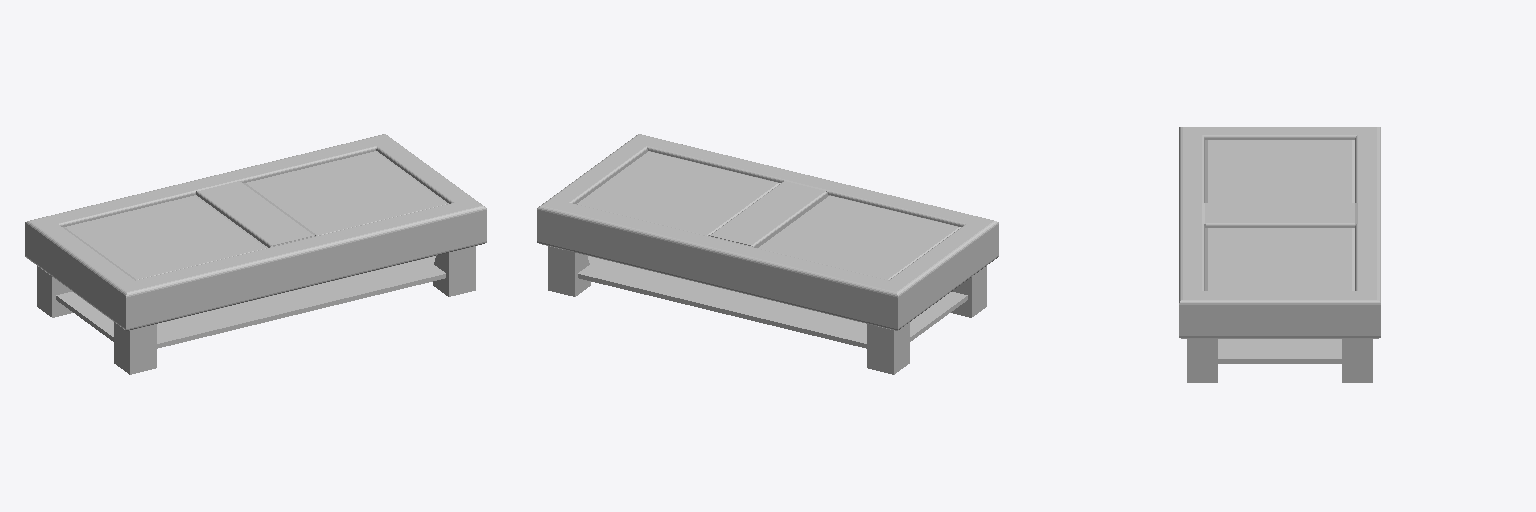
Rendered from coffee table.obj.
3 views of the same model, side by side, from view 1: azimuth 30°, elevation 25°; view 2: azimuth 150°, elevation 25°; view 3: azimuth 270°, elevation 25° (orthographic).
Visible parts, largest first — view 1: Cube, Cube.007, Cube.006, Cube.004, Cube.005, Cube.001; view 2: Cube, Cube.007, Cube.006, Cube.001, Cube.003, Cube.004; view 3: Cube, Cube.007, Cube.006, Cube.003, Cube.005.
Part boxes in pixels (left/top/right/bottom): Cube: left=25, top=134, right=486, bottom=330; Cube.007: left=63, top=151, right=448, bottom=279; Cube.006: left=56, top=256, right=445, bottom=348; Cube.004: left=114, top=322, right=156, bottom=374; Cube.005: left=433, top=246, right=475, bottom=296; Cube.001: left=37, top=266, right=72, bottom=317; Cube: left=537, top=134, right=998, bottom=330; Cube.007: left=575, top=151, right=960, bottom=279; Cube.006: left=578, top=256, right=967, bottom=348; Cube.001: left=867, top=322, right=909, bottom=374; Cube.003: left=548, top=246, right=590, bottom=296; Cube.004: left=951, top=266, right=986, bottom=317; Cube: left=1179, top=127, right=1380, bottom=338; Cube.007: left=1205, top=140, right=1354, bottom=290; Cube.006: left=1218, top=339, right=1341, bottom=363; Cube.003: left=1342, top=339, right=1372, bottom=382; Cube.005: left=1187, top=339, right=1217, bottom=382.
Size of the model in its own units: 2 by 0.4522 by 0.9704.